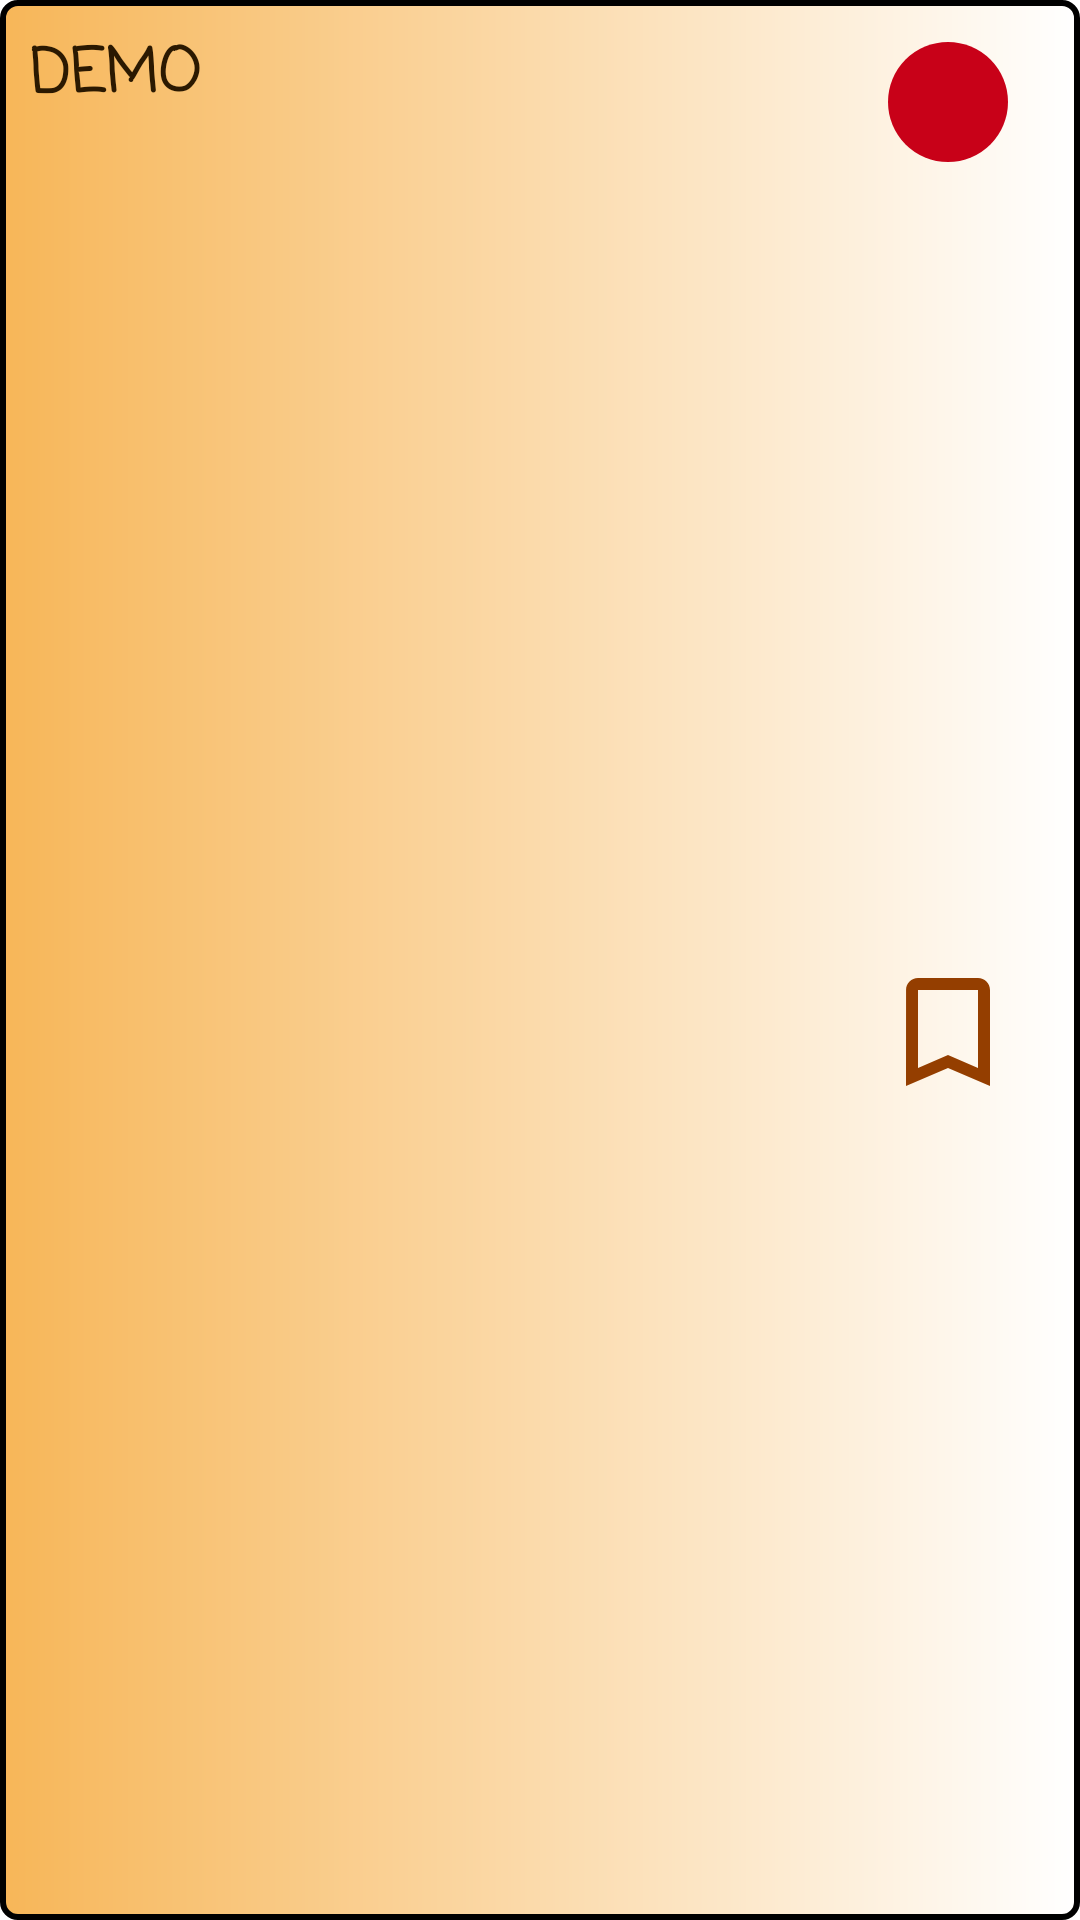

Named icons in this screenshot (1080*1920) and their bounding boxes, (x1, y1, x2, y2):
Bookmark button: (906, 960, 1020, 1104)
